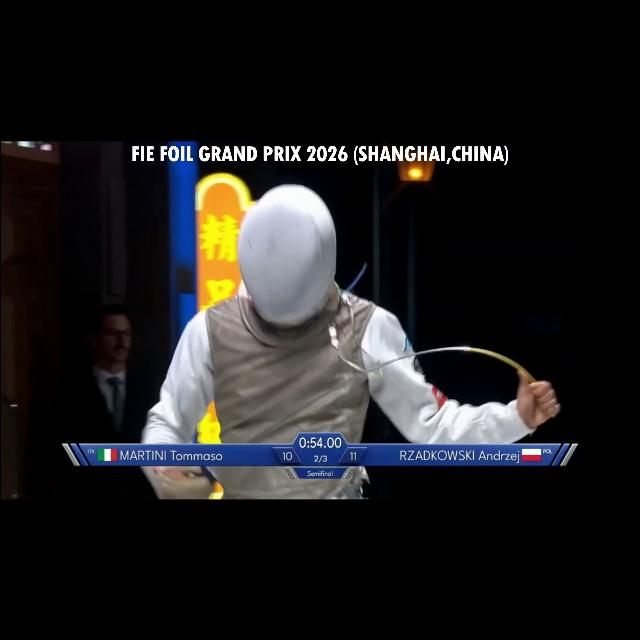blade: (176, 338, 556, 488)
